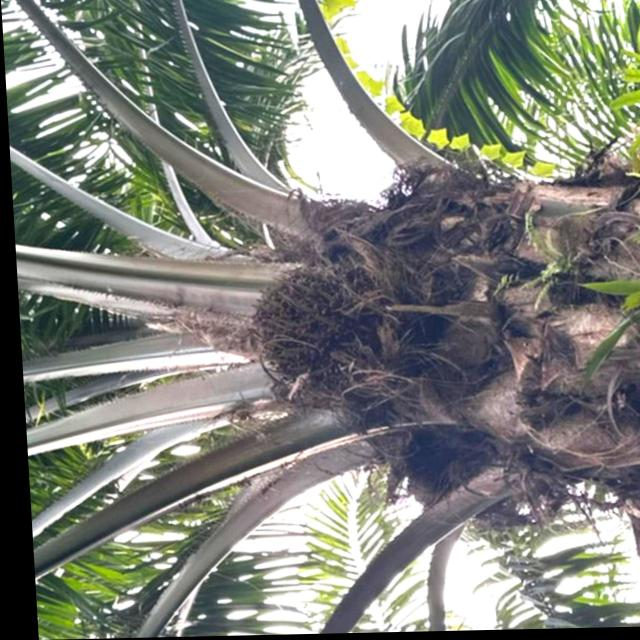ripe: (233, 253, 366, 409)
